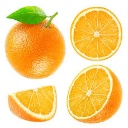orange: (5, 5, 65, 79), (6, 85, 56, 122)
